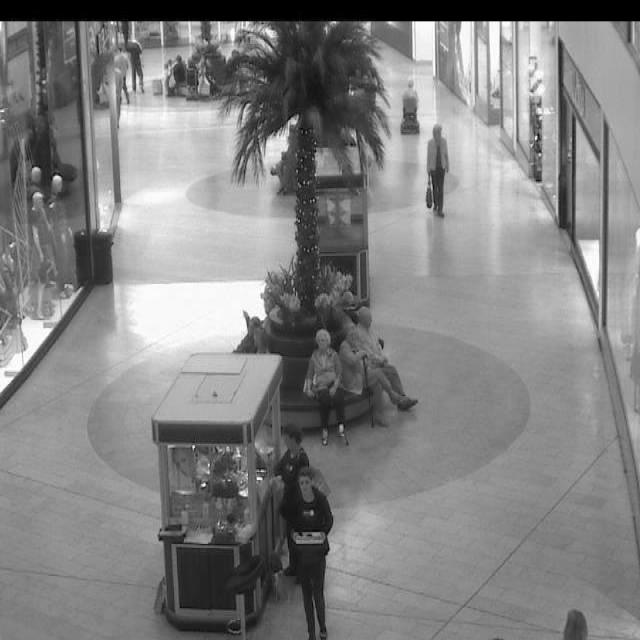person: (274, 464, 336, 640), (350, 308, 420, 420), (302, 331, 342, 445), (274, 426, 311, 509), (426, 127, 450, 216), (238, 302, 262, 338), (402, 77, 419, 127), (128, 40, 144, 92), (196, 56, 214, 100), (250, 326, 272, 358), (163, 56, 179, 95), (171, 55, 186, 94)
